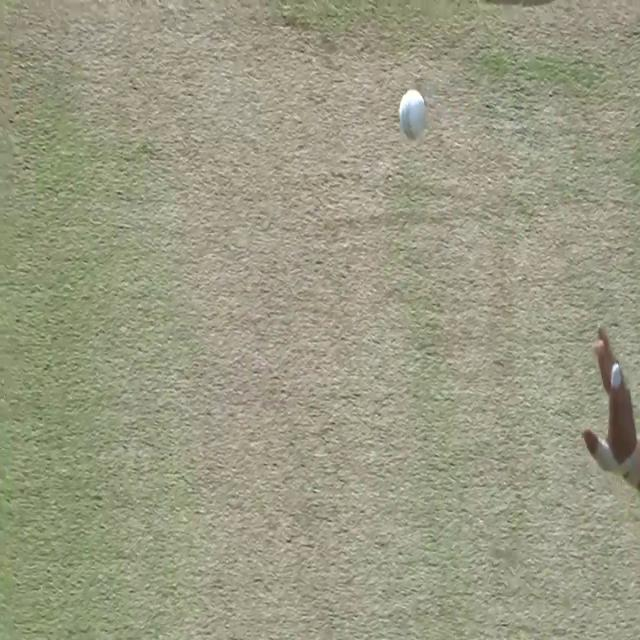ball: (394, 85, 432, 147)
